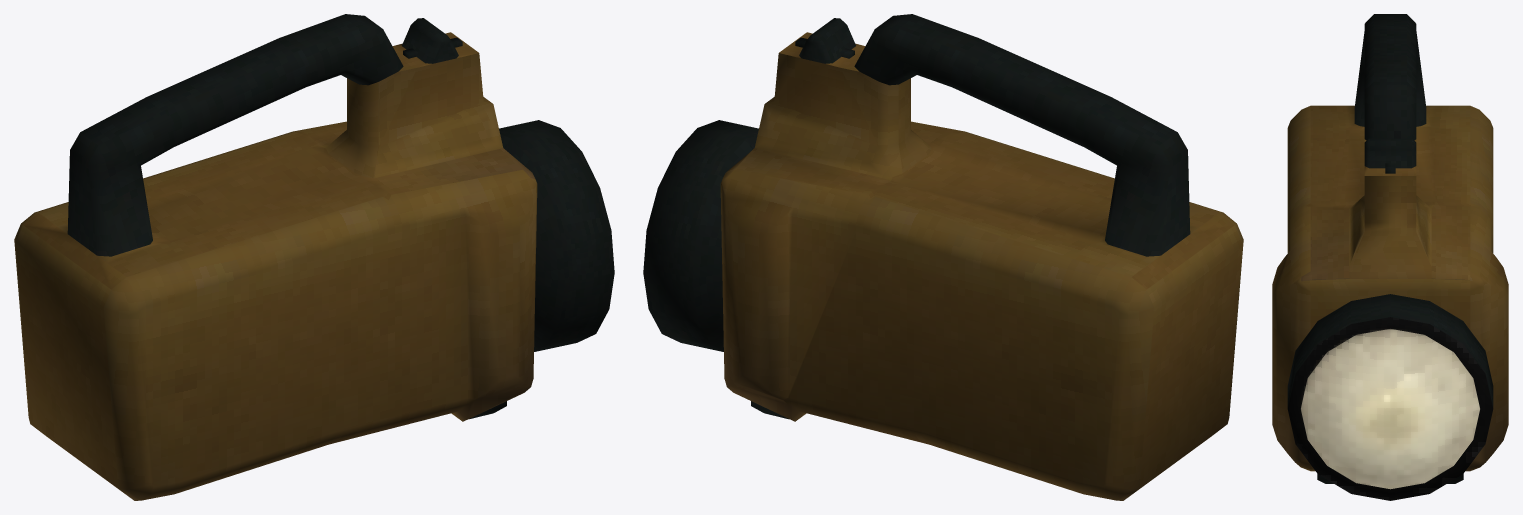
The model's file is flashlight_1.glb.
3 views of the same model, side by side, from view 1: azimuth 30°, elevation 25°; view 2: azimuth 150°, elevation 25°; view 3: azimuth 270°, elevation 25° (orthographic). The views are drawn at different scales.
Visible parts, largest first — view 1: flashlight_1; view 2: flashlight_1; view 3: flashlight_1.
Boxes of the visible parts, x1,y1,x2,y2 form: flashlight_1: (14,14,614,500); flashlight_1: (643,14,1243,500); flashlight_1: (1272,14,1508,500).
Bounding box in the file's own units: 0.3851 × 0.2745 × 0.1656.
1 material, 1 textured.
